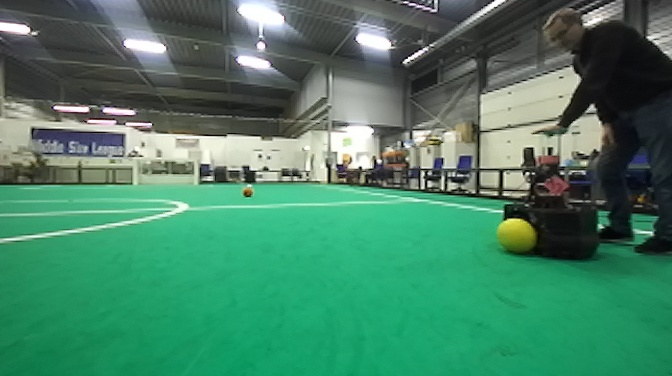ball: (491, 217, 537, 259), (240, 184, 255, 200)
goal: (133, 156, 200, 187)
goalpost: (132, 158, 138, 186), (193, 158, 199, 186)
human: (528, 3, 672, 267)
robot: (498, 130, 601, 266)
